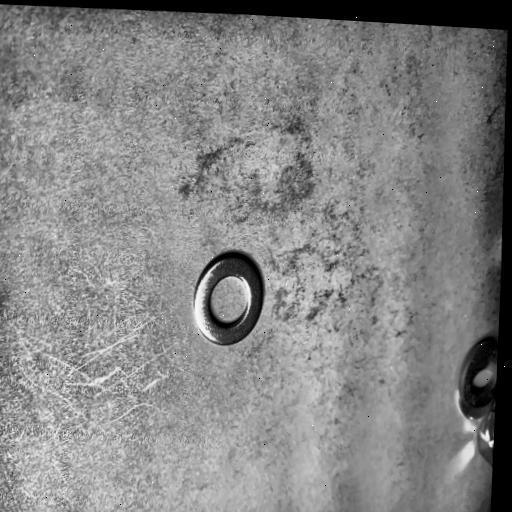Washer: (193, 251, 265, 346), (456, 335, 499, 421)
